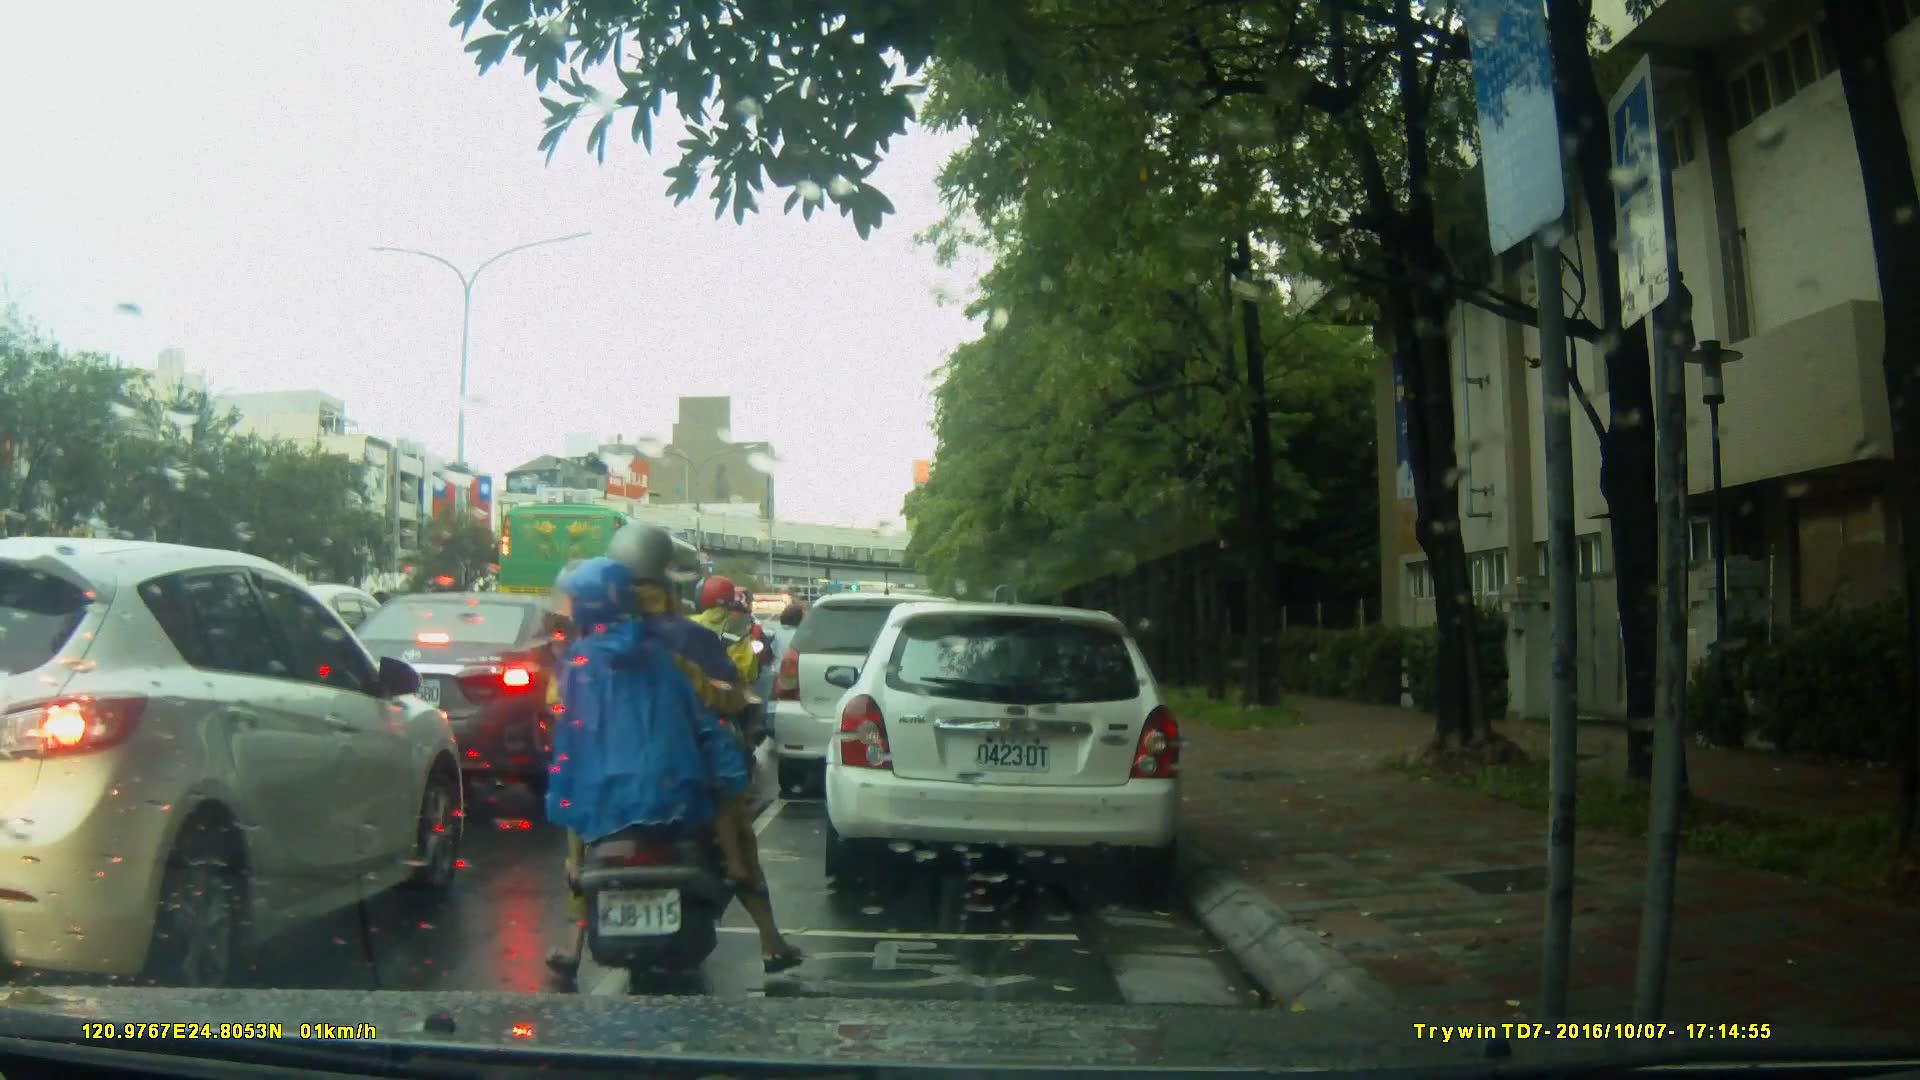rider: (515, 516, 815, 1000), (681, 572, 766, 807), (717, 592, 775, 750), (771, 598, 817, 727)
vehicle: (5, 535, 470, 988), (831, 592, 1196, 897), (315, 589, 629, 776), (770, 590, 999, 804), (498, 503, 713, 636)
